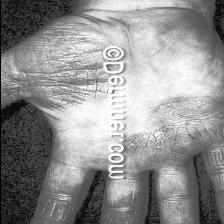Non-Cancerous Skin Condition: (134, 96, 218, 168), (37, 54, 90, 122)
